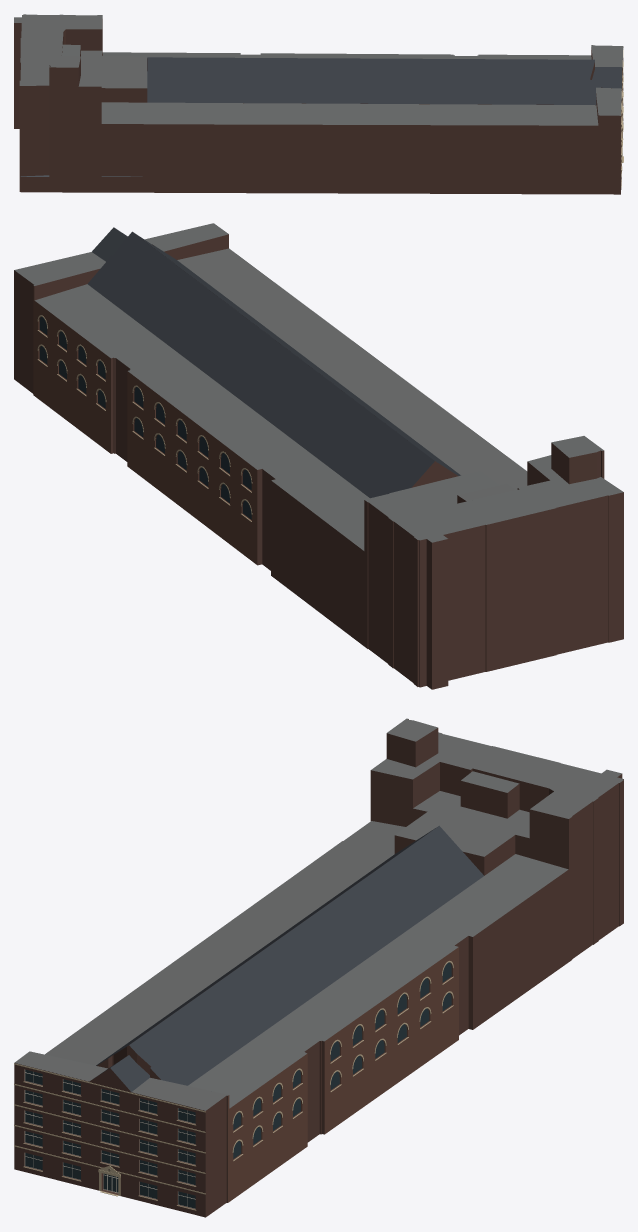
Rendered from recipe-large-hoogte-kadijk-400-251313.glb.
3 views of the same model, one above another, from view 1: azimuth 30°, elevation 25°; view 2: azimuth 150°, elevation 25°; view 3: azimuth 270°, elevation 25° (orthographic). The views are drawn at different scales.
Parts seen in each view (by area): view 1: hoogte-kadijk-400-251313; view 2: hoogte-kadijk-400-251313; view 3: hoogte-kadijk-400-251313.
Boxes of the visible parts, left/top/right/bottom form: hoogte-kadijk-400-251313: left=14, top=14, right=623, bottom=194; hoogte-kadijk-400-251313: left=14, top=223, right=623, bottom=689; hoogte-kadijk-400-251313: left=14, top=718, right=623, bottom=1217.
Bounding box in the file's own units: 120 × 27.54 × 90.01.
